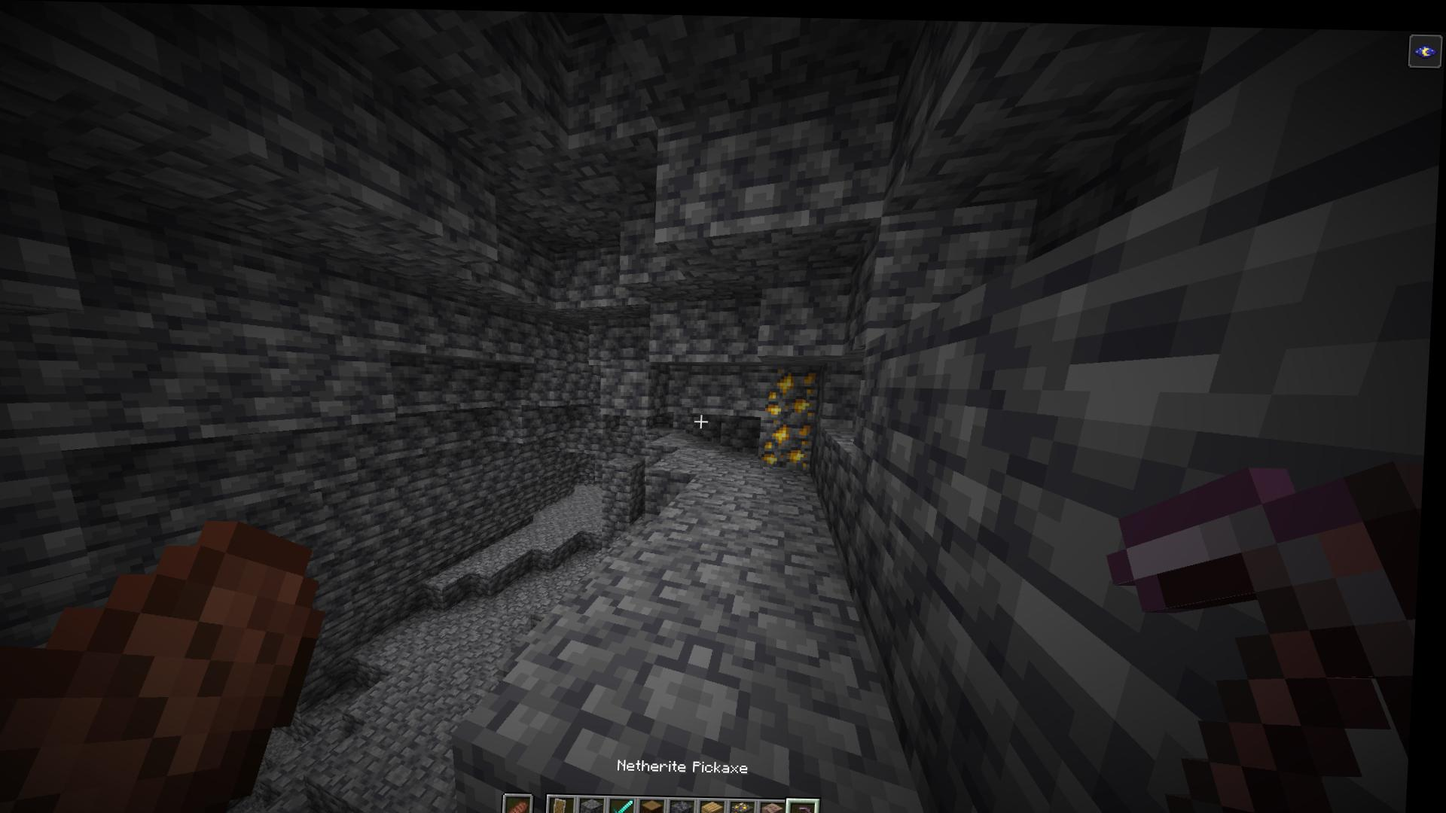gold ore: (763, 412, 818, 468), (768, 361, 822, 418)
